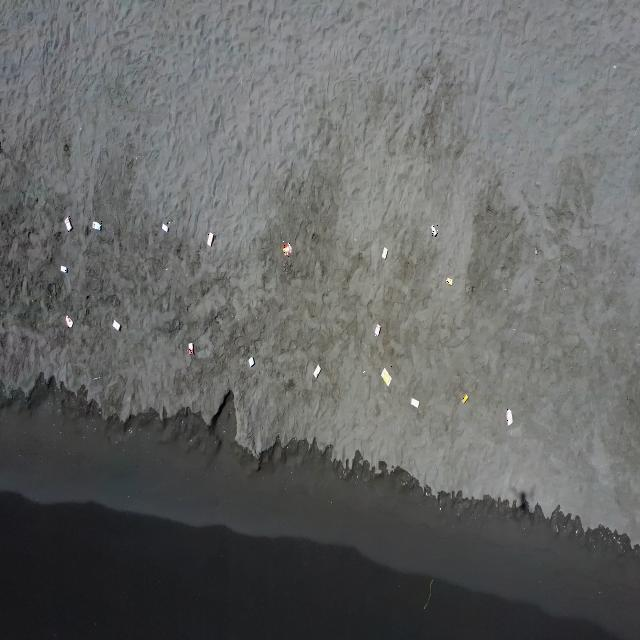Garbage: (380, 367, 391, 384), (281, 240, 291, 256), (64, 216, 71, 231), (312, 364, 320, 377), (409, 397, 419, 407), (506, 408, 512, 424), (64, 315, 71, 327), (207, 232, 213, 246), (380, 247, 387, 259), (111, 320, 120, 329), (91, 220, 99, 230), (187, 342, 193, 355), (373, 324, 380, 335), (247, 355, 253, 367), (460, 394, 467, 403), (160, 223, 167, 232), (431, 224, 436, 236), (60, 264, 67, 272), (533, 247, 539, 255), (446, 277, 452, 284), (91, 376, 100, 380), (612, 64, 615, 68), (362, 369, 363, 372)
